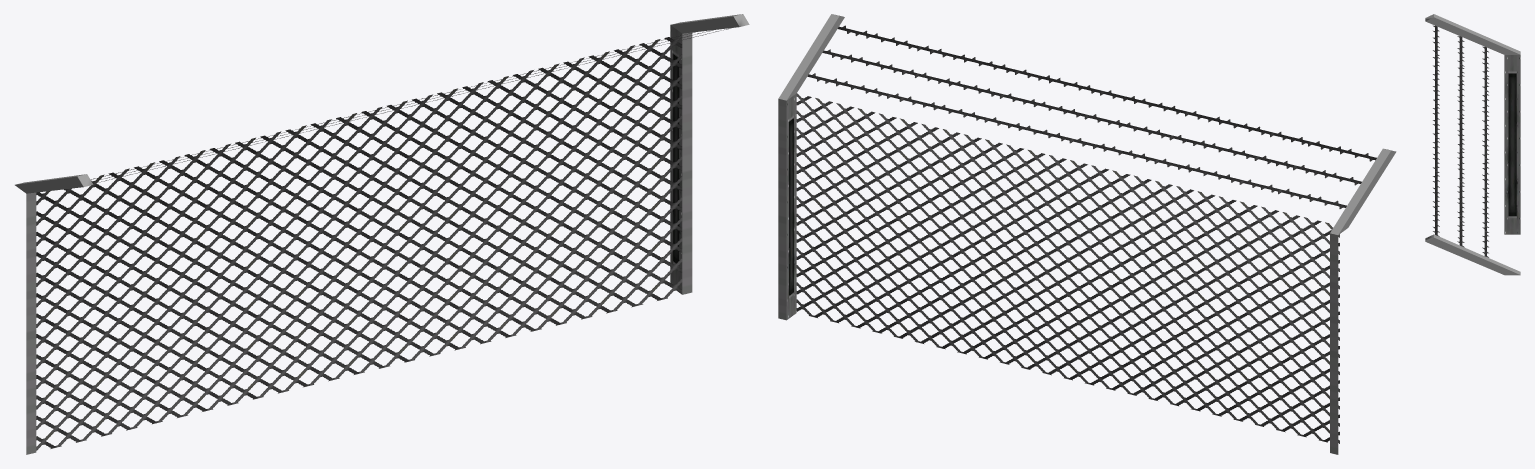
File: Fence01.glb
The picture shows the model from 3 angles, left to right: view 1: azimuth 30°, elevation 25°; view 2: azimuth 150°, elevation 25°; view 3: azimuth 270°, elevation 25°; orthographic projection. The views are drawn at different scales.
Visible parts, largest first — view 1: FENCE01; view 2: FENCE01; view 3: FENCE01.
Part boxes in pixels (x1=…): FENCE01: x1=15, y1=14, x2=749, y2=454; FENCE01: x1=778, y1=14, x2=1396, y2=454; FENCE01: x1=1425, y1=14, x2=1520, y2=275.
Bounding box in the file's own units: 8 × 3.63 × 1.45.
4 materials, 3 textured.
